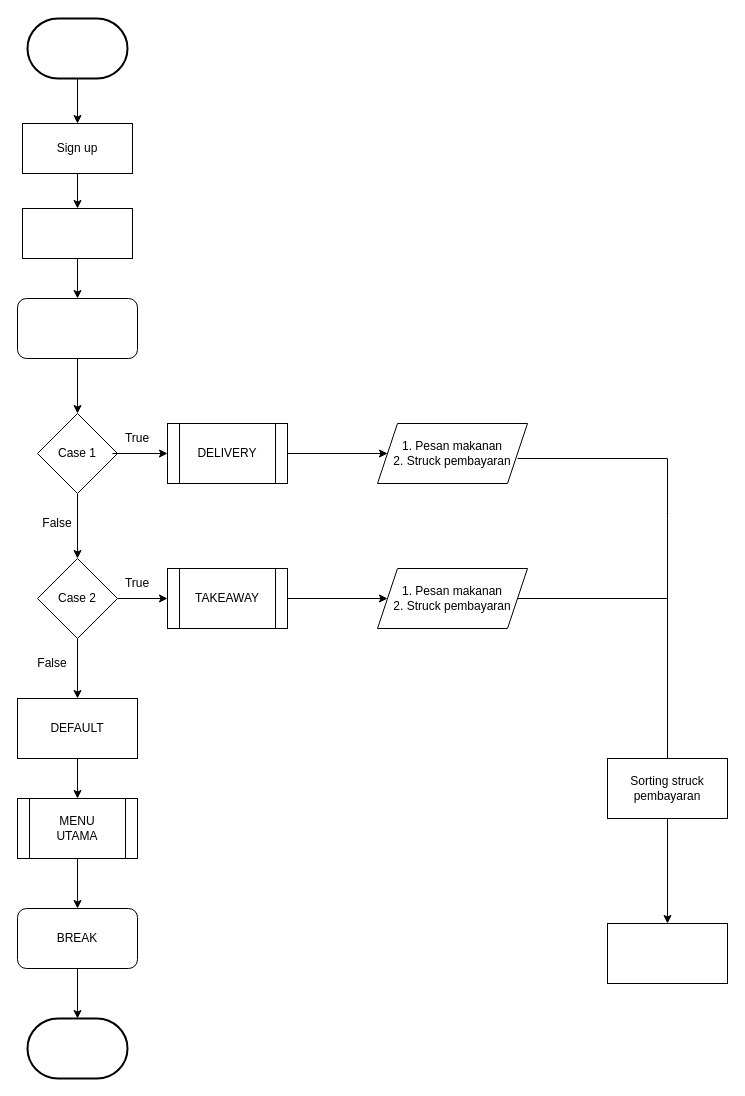
The diagram is 745 pixels wide and 1096 high, and some of its shapes have lost their labels. Each missing label, with the box of its shape:
FINISH USER: (26, 1017, 128, 1079)
Login user: (22, 208, 132, 258)
OUTPUT: (606, 922, 728, 984)
START USER: (26, 17, 128, 79)
SWITCH select: (16, 298, 138, 358)
